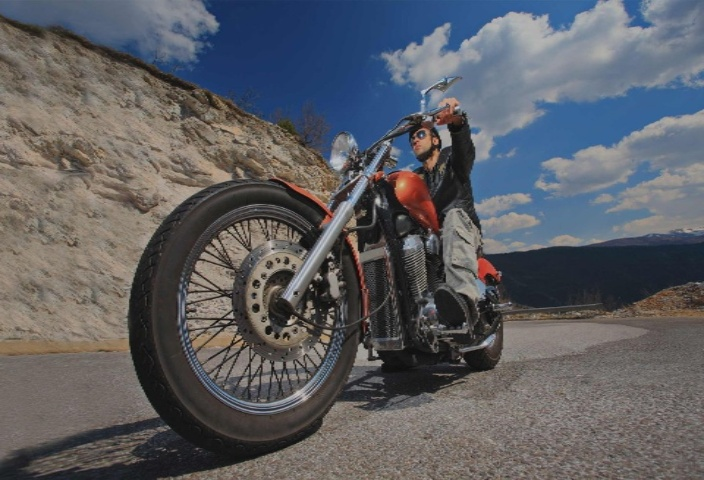motorcycle: (86, 60, 573, 432)
